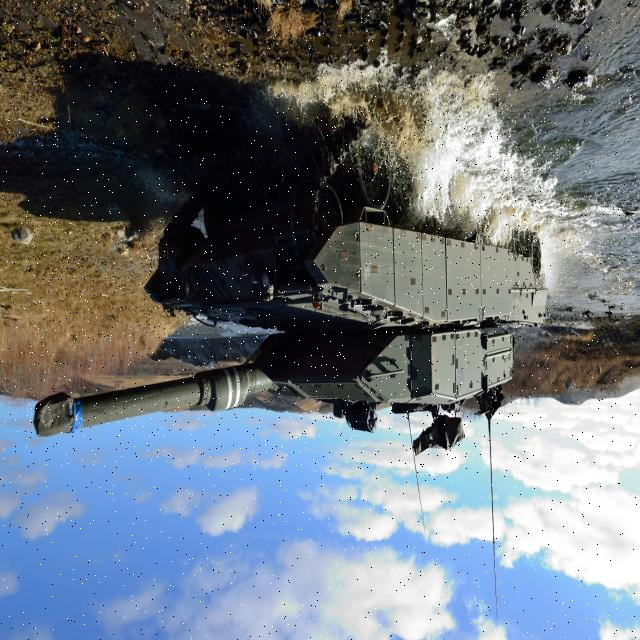MIL_MBT: (25, 115, 551, 468)
